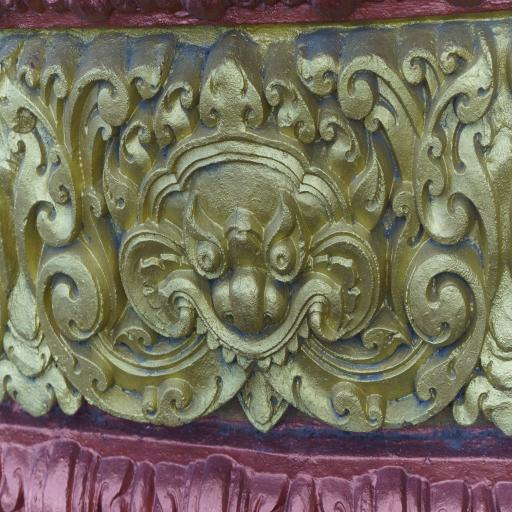la: (403, 60, 511, 430), (0, 77, 114, 395), (198, 48, 276, 132), (262, 55, 317, 150), (148, 66, 198, 148), (316, 101, 366, 168)
than: (118, 126, 398, 432)
